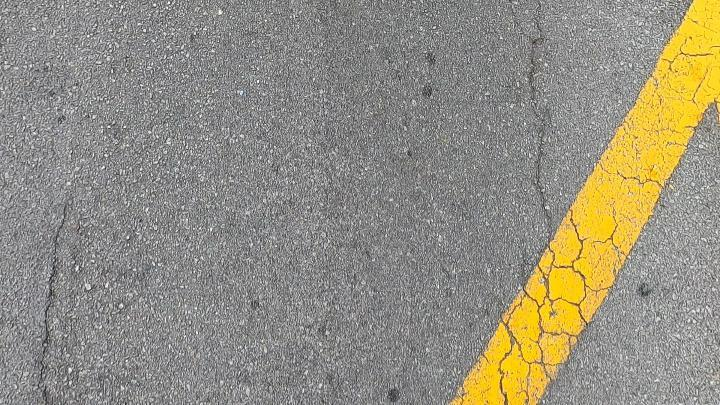Crack: (34, 189, 78, 405), (522, 0, 554, 229), (35, 199, 68, 404), (526, 0, 552, 226)
Lane: (447, 0, 720, 405), (450, 0, 719, 404)
